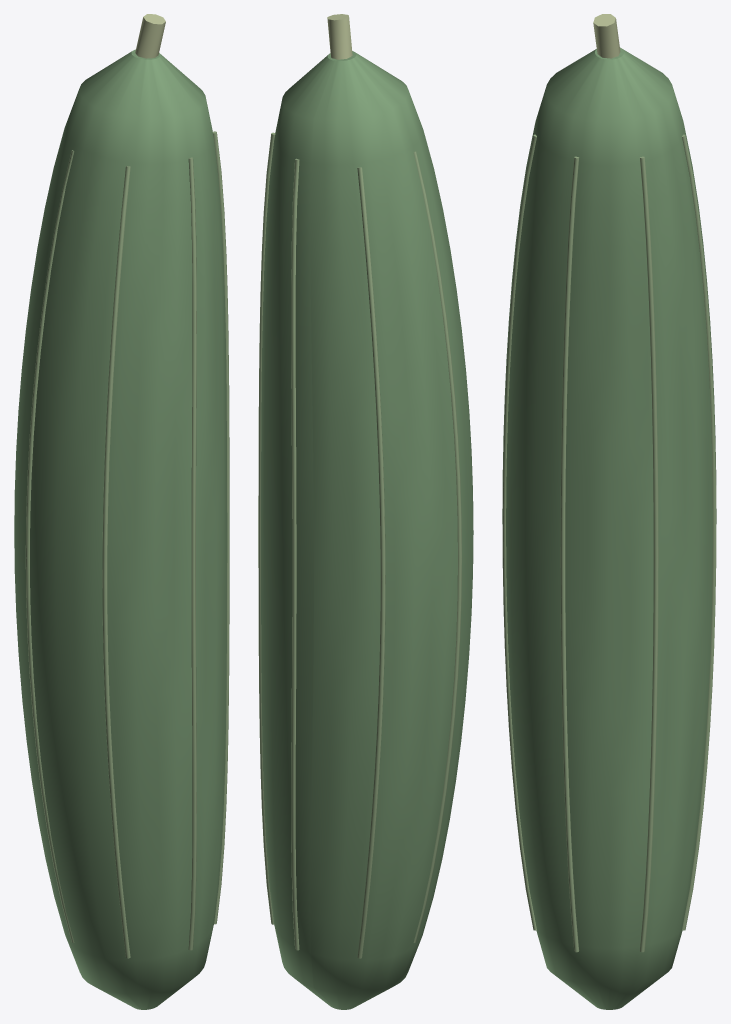
Rendered from cucumber.glb.
3 renders of one model, left to right at view 1: azimuth 30°, elevation 25°; view 2: azimuth 150°, elevation 25°; view 3: azimuth 270°, elevation 25°, orthographic.
Visible parts, largest first — view 1: library-cucumber-curved-cucumber, library-cucumber-product-cucumber-stripe, library-cucumber-cut-stem; view 2: library-cucumber-curved-cucumber, library-cucumber-product-cucumber-stripe, library-cucumber-cut-stem; view 3: library-cucumber-curved-cucumber, library-cucumber-product-cucumber-stripe, library-cucumber-cut-stem.
Part boxes in pixels (x1,y1,x2,y2): library-cucumber-curved-cucumber: (14,49,227,1009); library-cucumber-product-cucumber-stripe: (25,131,229,958); library-cucumber-cut-stem: (135,14,165,58); library-cucumber-curved-cucumber: (261,51,473,1009); library-cucumber-product-cucumber-stripe: (258,132,461,958); library-cucumber-cut-stem: (327,14,352,59); library-cucumber-curved-cucumber: (502,47,716,1009); library-cucumber-product-cucumber-stripe: (502,134,716,952); library-cucumber-cut-stem: (593,14,620,58).
Size of the model in its own units: 0.0445 by 0.2247 by 0.044.
